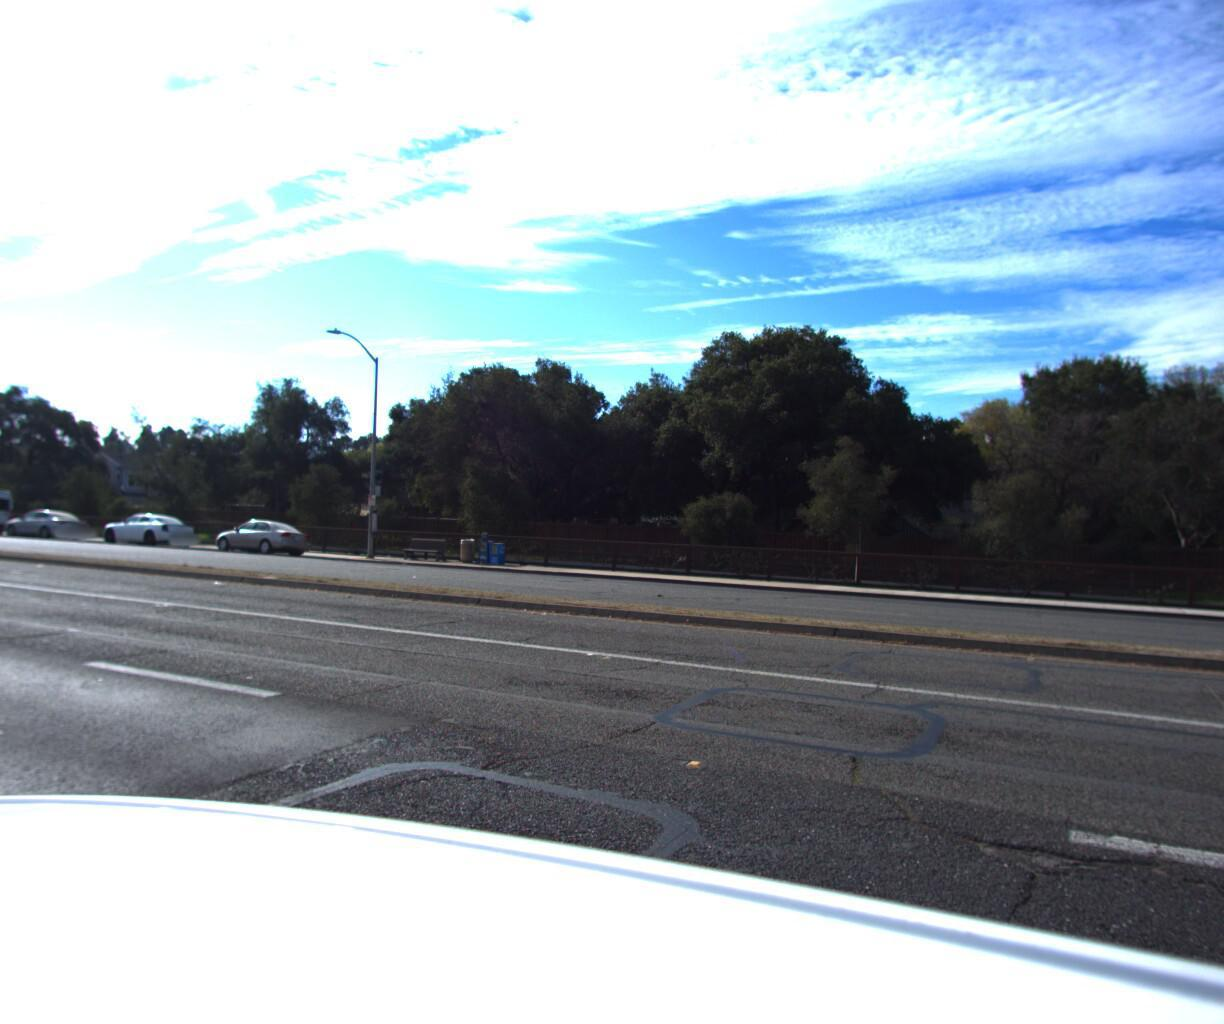car: (212, 511, 318, 554), (99, 505, 205, 545), (0, 502, 96, 538)
